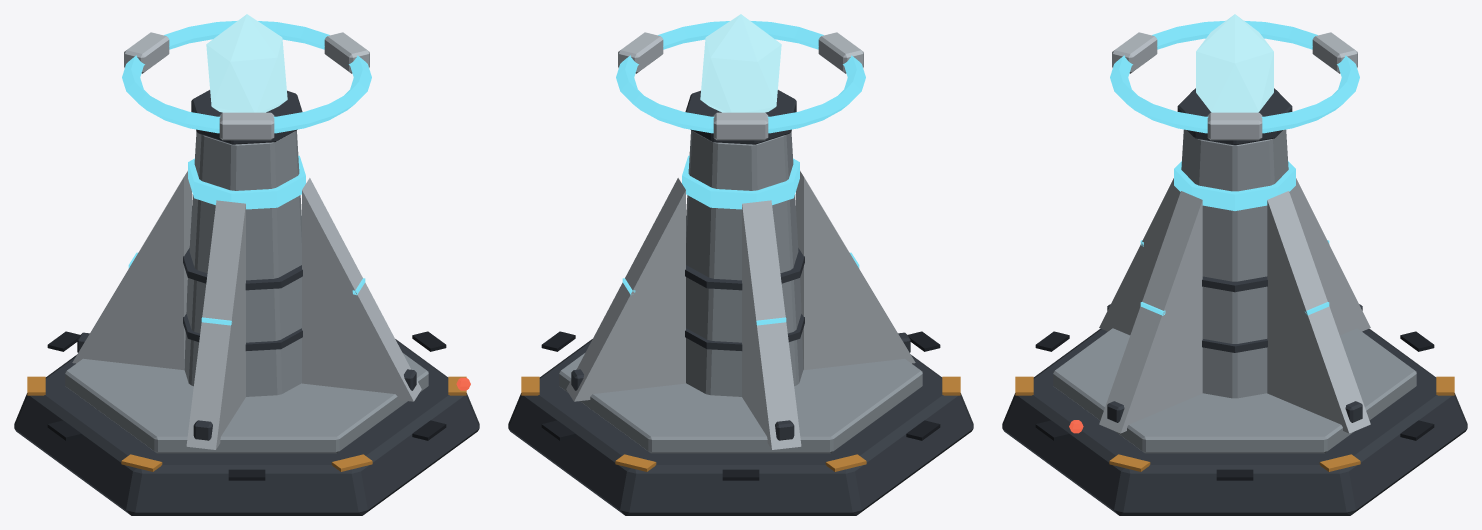
The model's file is exo-shield.glb.
3 views of the same model, side by side, from view 1: azimuth 30°, elevation 25°; view 2: azimuth 150°, elevation 25°; view 3: azimuth 270°, elevation 25° (orthographic).
Parts seen in each view (by area): view 1: body, ring, charge; view 2: body, ring, charge; view 3: body, ring, charge.
Boxes of the visible parts, left/top/right/bottom form: body: left=14, top=90, right=479, bottom=515; ring: left=122, top=21, right=371, bottom=140; charge: left=188, top=14, right=305, bottom=209; body: left=508, top=90, right=973, bottom=515; ring: left=616, top=21, right=865, bottom=140; charge: left=682, top=14, right=799, bottom=209; body: left=1002, top=88, right=1467, bottom=515; ring: left=1110, top=20, right=1359, bottom=140; charge: left=1174, top=14, right=1295, bottom=210.
Size of the model in its own units: 7.2 by 7.55 by 7.63.
